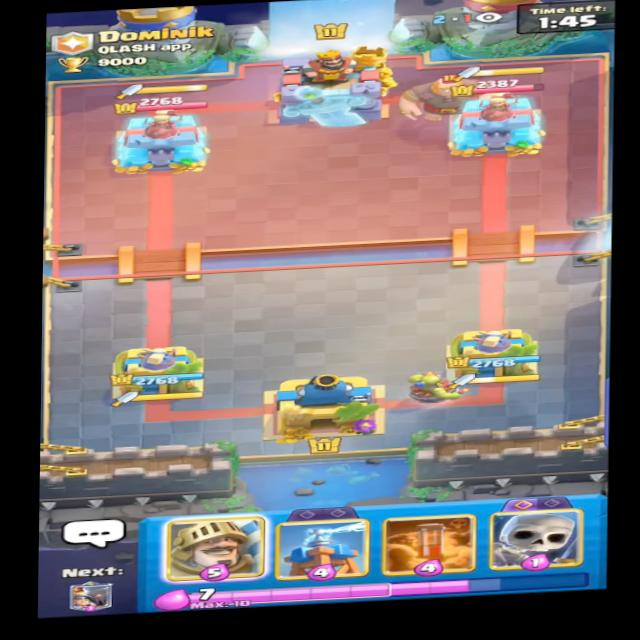Giant: (392, 65, 492, 123)
